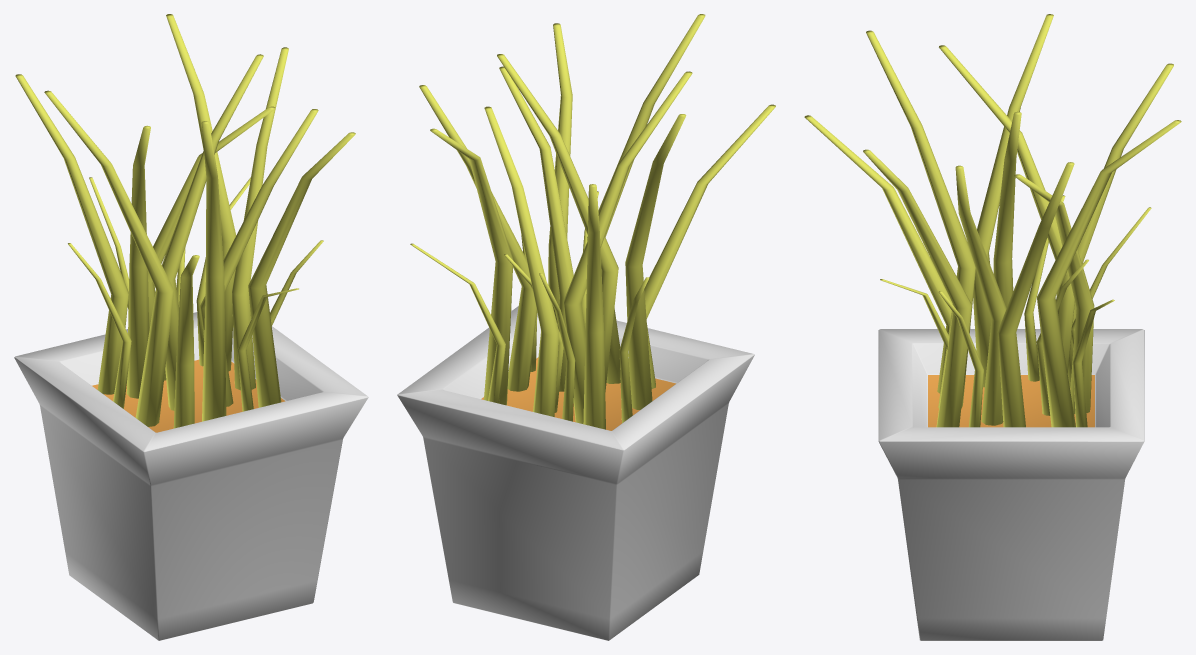
File: kwiatek2.fbx
3 renders of one model, left to right at view 1: azimuth 30°, elevation 25°; view 2: azimuth 150°, elevation 25°; view 3: azimuth 270°, elevation 25°, orthographic. The views are drawn at different scales.
Parts seen in each view (by area): view 1: Cube; view 2: Cube; view 3: Cube.
Boxes of the visible parts, bbox=[...] form: Cube: bbox=[14, 14, 368, 640]; Cube: bbox=[397, 14, 775, 640]; Cube: bbox=[804, 14, 1181, 640].
Bounding box in the file's own units: 32.9 × 65.8 × 41.46.
